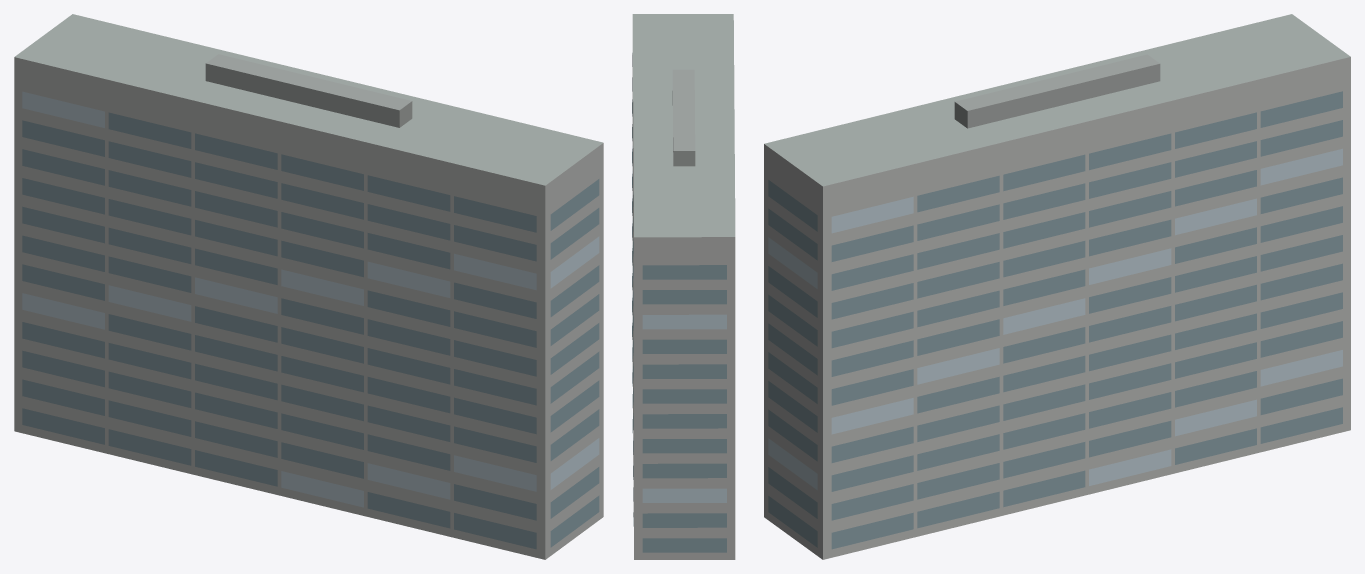
Rendered from apt-a15722007.glb.
The picture shows the model from 3 angles, left to right: view 1: azimuth 30°, elevation 25°; view 2: azimuth 150°, elevation 25°; view 3: azimuth 270°, elevation 25°; orthographic projection. The views are drawn at different scales.
Visible parts, largest first — view 1: apt-a15722007; view 2: apt-a15722007; view 3: apt-a15722007.
Boxes of the visible parts, x1,y1,x2,y2 form: apt-a15722007: (14, 14, 603, 559); apt-a15722007: (632, 14, 735, 559); apt-a15722007: (764, 14, 1350, 559).
Size of the model in its own units: 35.02 by 37 by 50.34.
